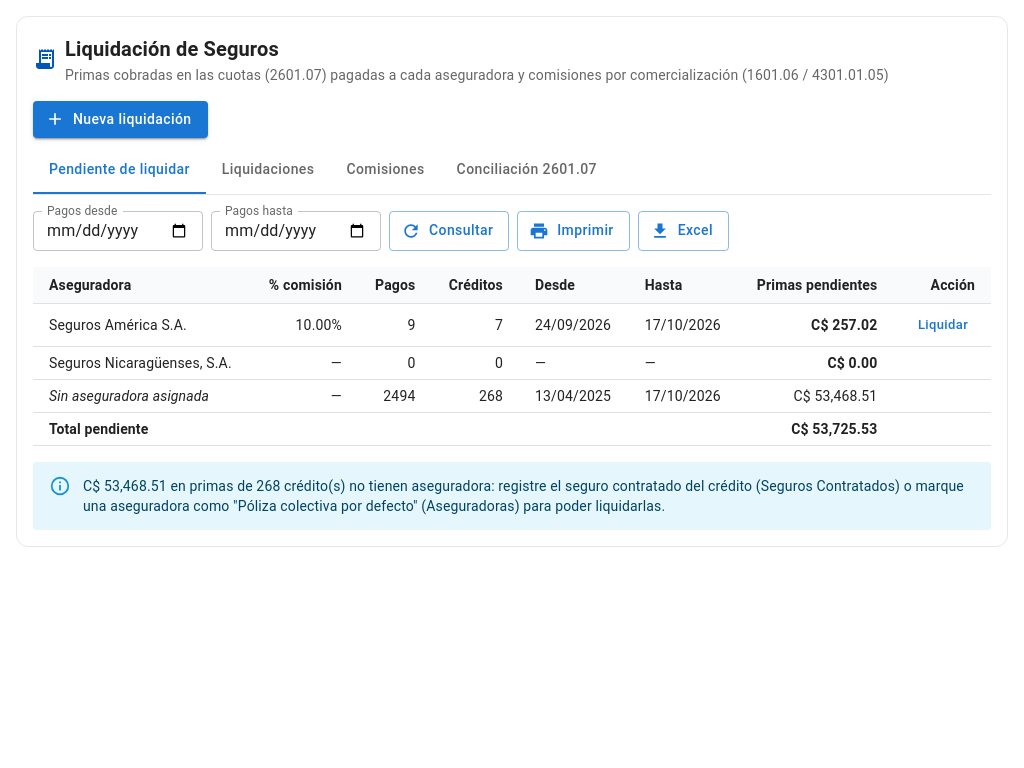
Test: InsuranceSettlements (liquidación de microseguros) › conciliación: pendiente por aseguradora contra el saldo de 2601.07
The width and height of the screenshot is (1024, 768).
Click the tab "Conciliación 2601.07" at (527, 170), box x1=441 y1=146 x2=613 y2=194
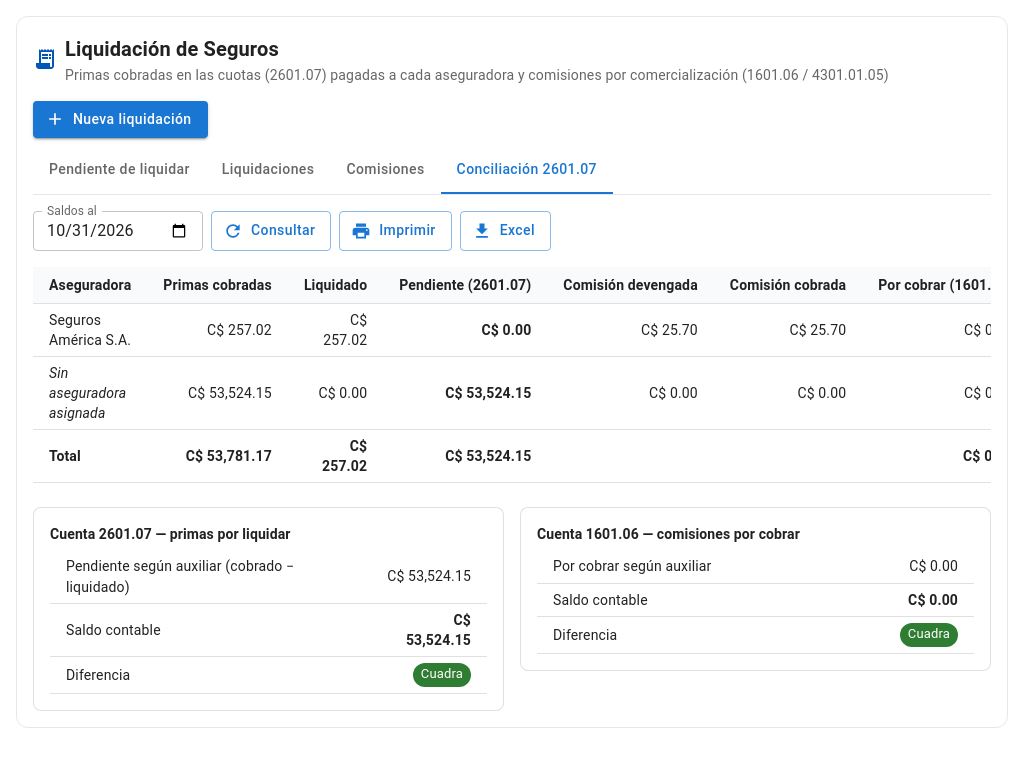
Expected: the heading "Cuenta 2601.07 — primas por liquidar" is shown, x1=50 y1=526 x2=290 y2=542
Expected: the text "Cuadra" is shown 2 times, x1=421 y1=666 x2=463 y2=681; x1=908 y1=626 x2=950 y2=641
